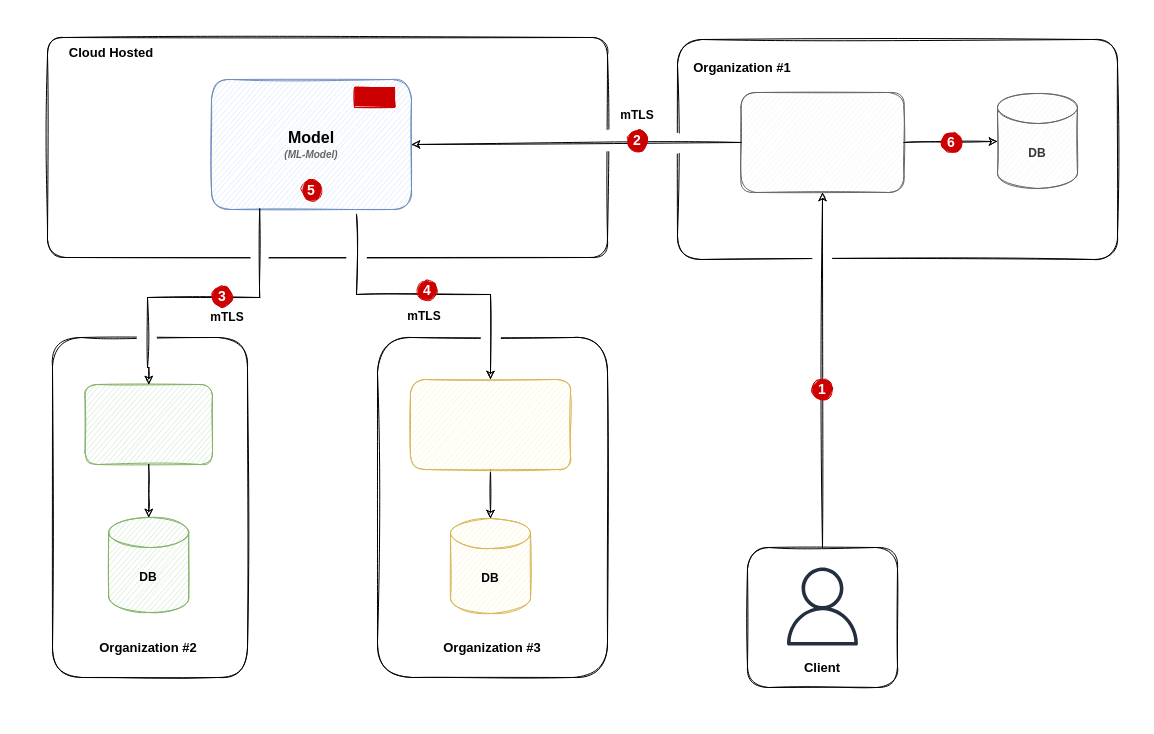
This 1154x734 diagram has some shape labels left out. Each missing label, with the centre of its shape:
Service #1 (Request Send): pixel 822 142
Service #2 (Data Store): pixel 148 424
Service #3 (Data Store): pixel 490 424
SGX: pixel 374 97
